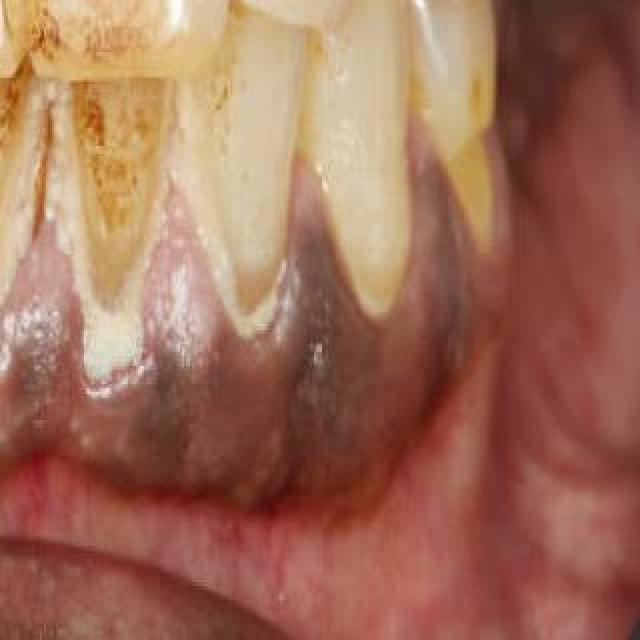calculus: (53, 208, 179, 422), (184, 219, 318, 393), (0, 208, 54, 428), (8, 0, 210, 26)
missing: (494, 0, 604, 220)
stains: (61, 71, 171, 371), (198, 33, 312, 317), (24, 0, 218, 70), (0, 88, 42, 352), (0, 0, 28, 80)
